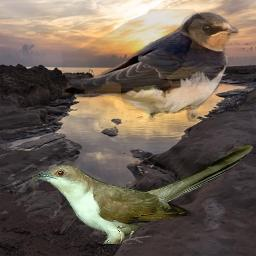Cuckoo: (32, 143, 253, 244)
Swallow: (62, 9, 239, 122)
